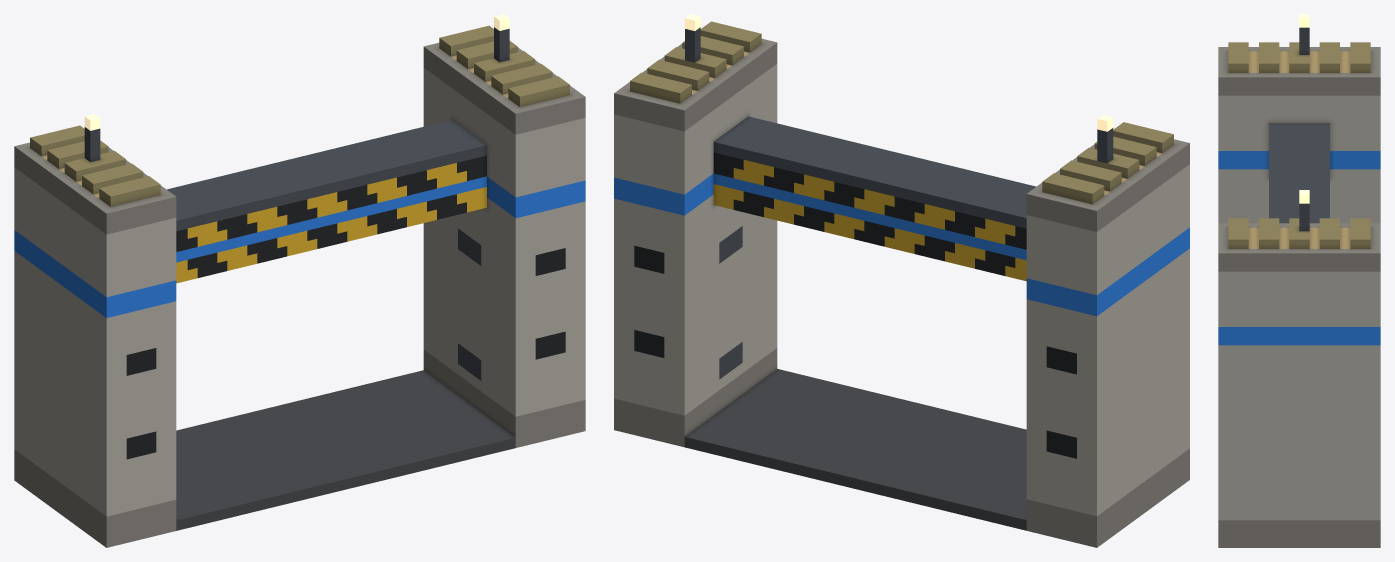
The model's file is cm_gate_1.glb.
The picture shows the model from 3 angles, left to right: view 1: azimuth 30°, elevation 25°; view 2: azimuth 150°, elevation 25°; view 3: azimuth 270°, elevation 25°; orthographic projection. The views are drawn at different scales.
Parts seen in each view (by area): view 1: cm_gate_1_body; view 2: cm_gate_1_body; view 3: cm_gate_1_body.
Boxes of the visible parts, <box> form: cm_gate_1_body: <box>14,14,585,547</box>; cm_gate_1_body: <box>614,14,1189,547</box>; cm_gate_1_body: <box>1218,14,1380,547</box>.
Size of the model in its own units: 3 by 2.31 by 1.
1 material, 1 textured.
